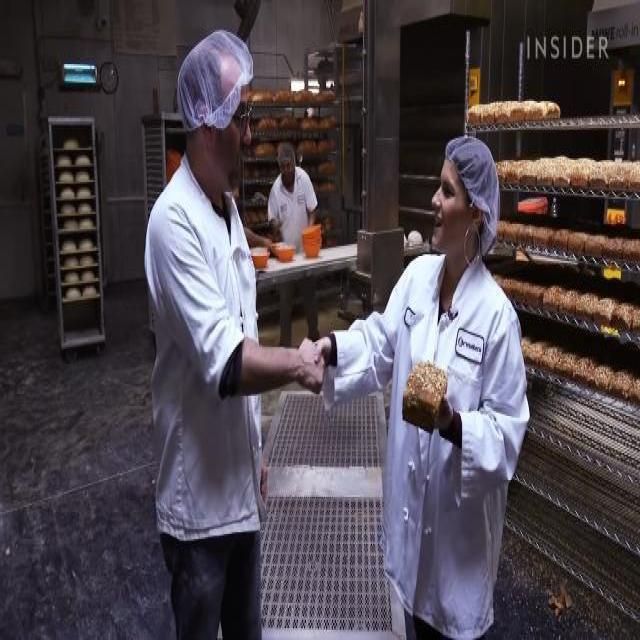bare_hand: (427, 371, 463, 443), (288, 339, 327, 397), (312, 330, 343, 365)
